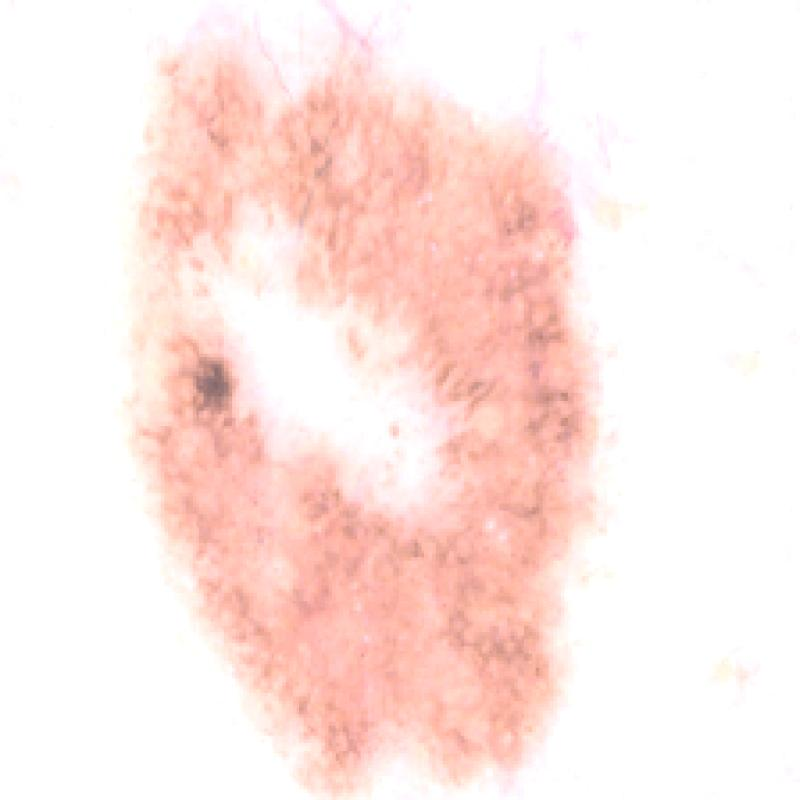benign: (112, 23, 624, 787)
